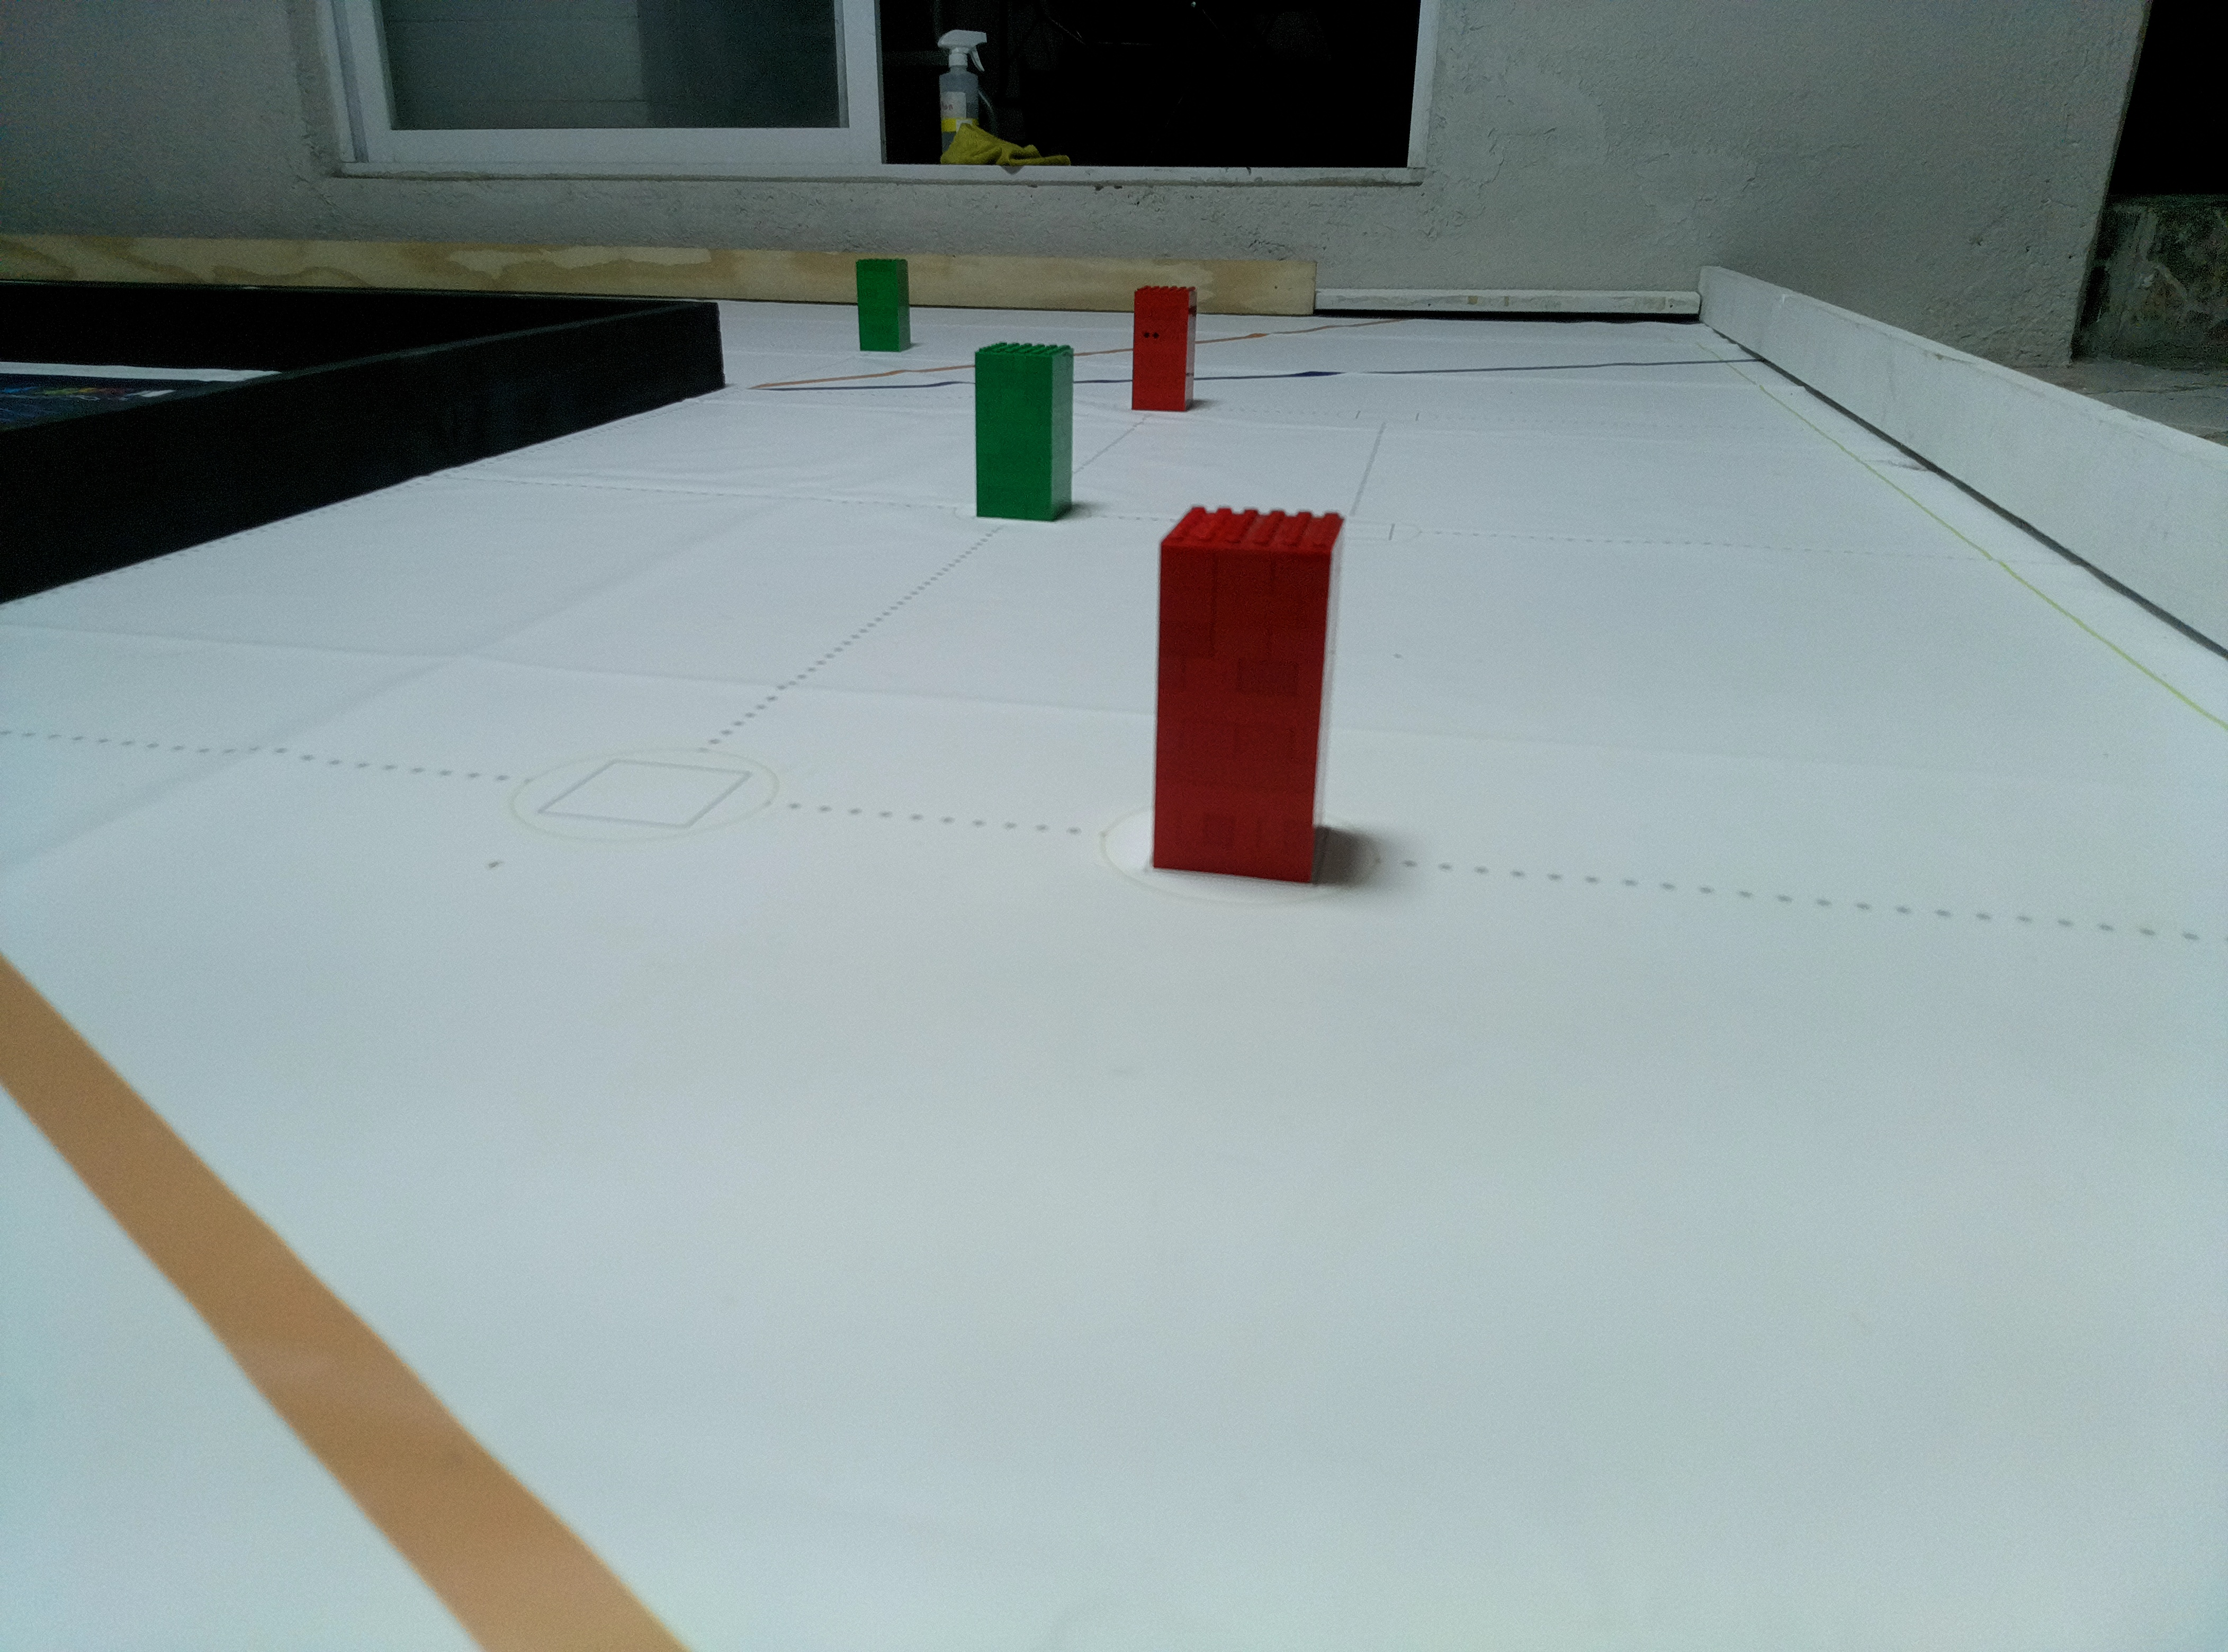greenbox: (968, 337, 1081, 529), (854, 253, 916, 354)
redbox: (1156, 503, 1341, 882), (1131, 283, 1202, 413)
